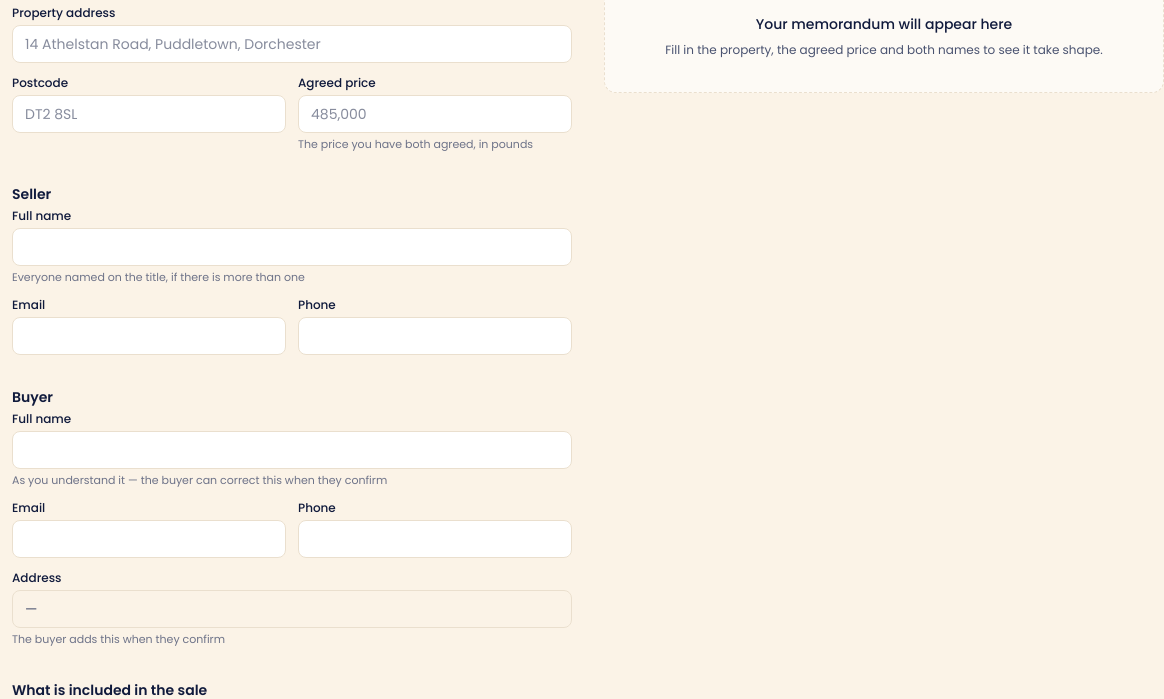
Scenario: acknowledging as the seller › shows the declaration in the signer's own words
Type "14 Athelstan Road, Puddletown" into the field labelled "Property address".
click(292, 44); type("14 Athelstan Road, Puddletown")  # box [12, 25, 572, 63]
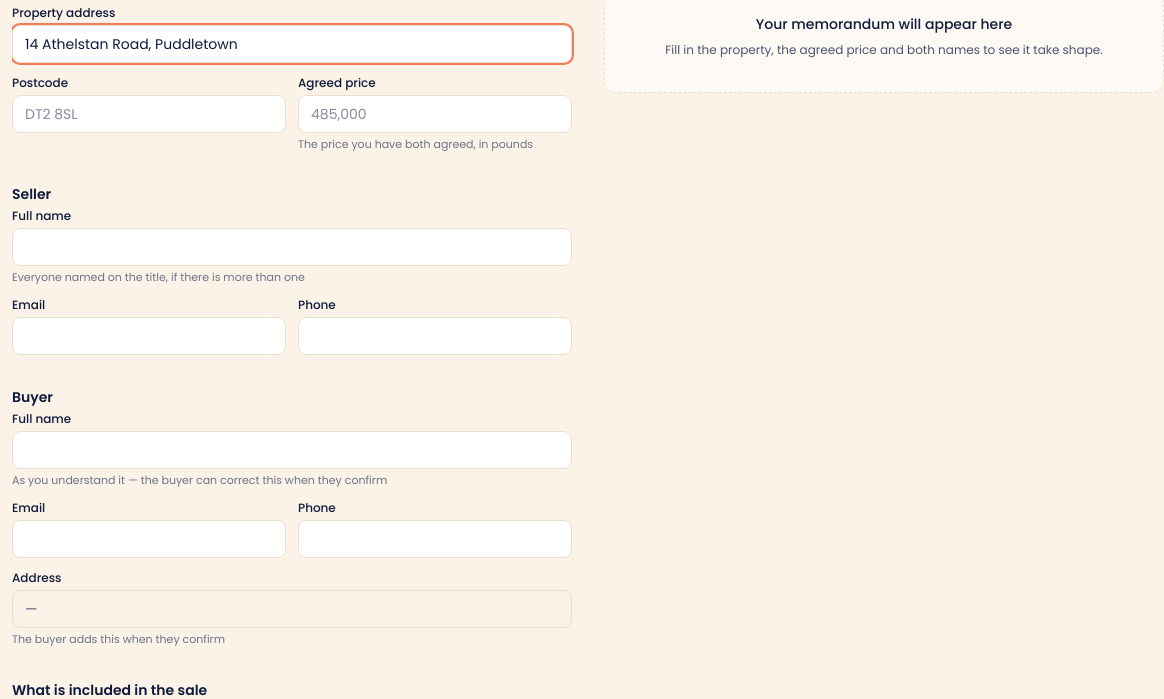
Type "485000" into the field labelled "Agreed price".
click(435, 114); type("485000")  # box [298, 95, 572, 133]
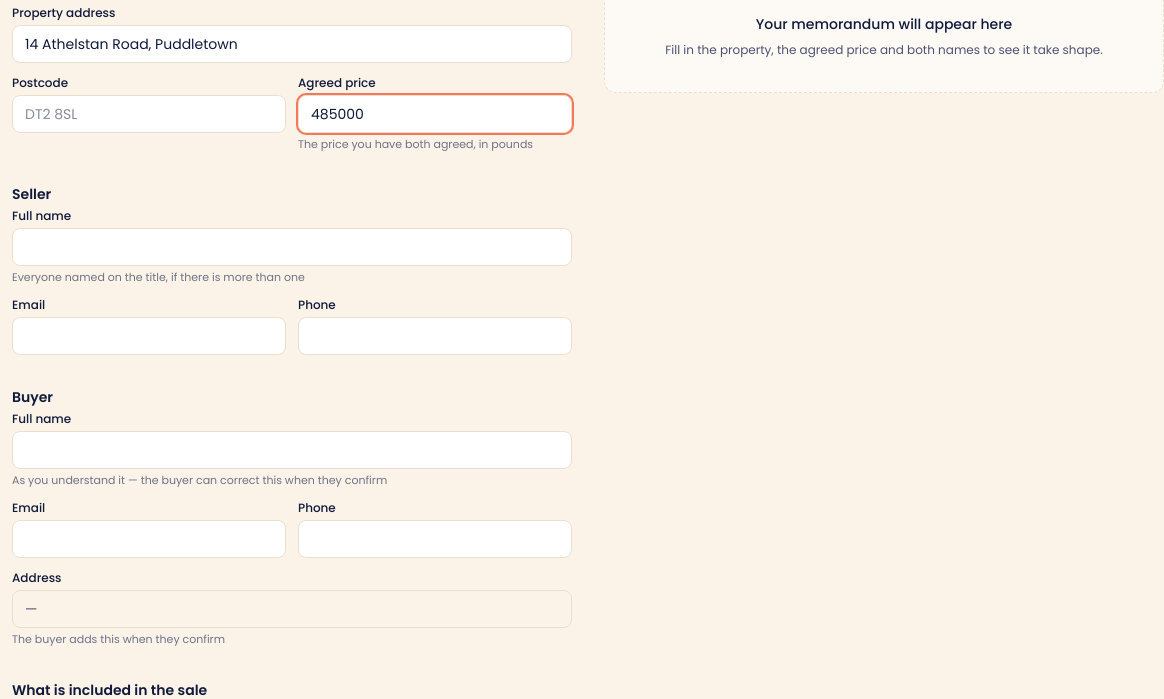
Type "William Boltwood" into the 1st field labelled "Full name".
click(292, 247); type("William Boltwood")  # box [12, 228, 572, 266]
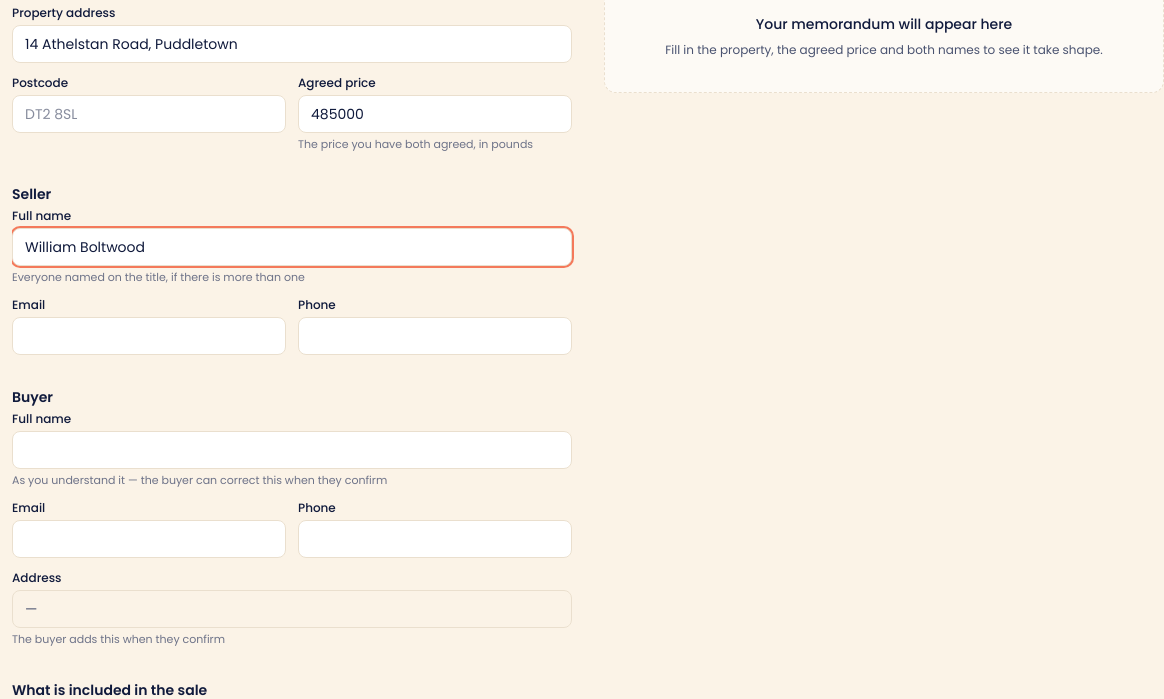
Type "James Law" into the 2nd field labelled "Full name".
click(292, 450); type("James Law")  # box [12, 431, 572, 469]
(page scrolled)
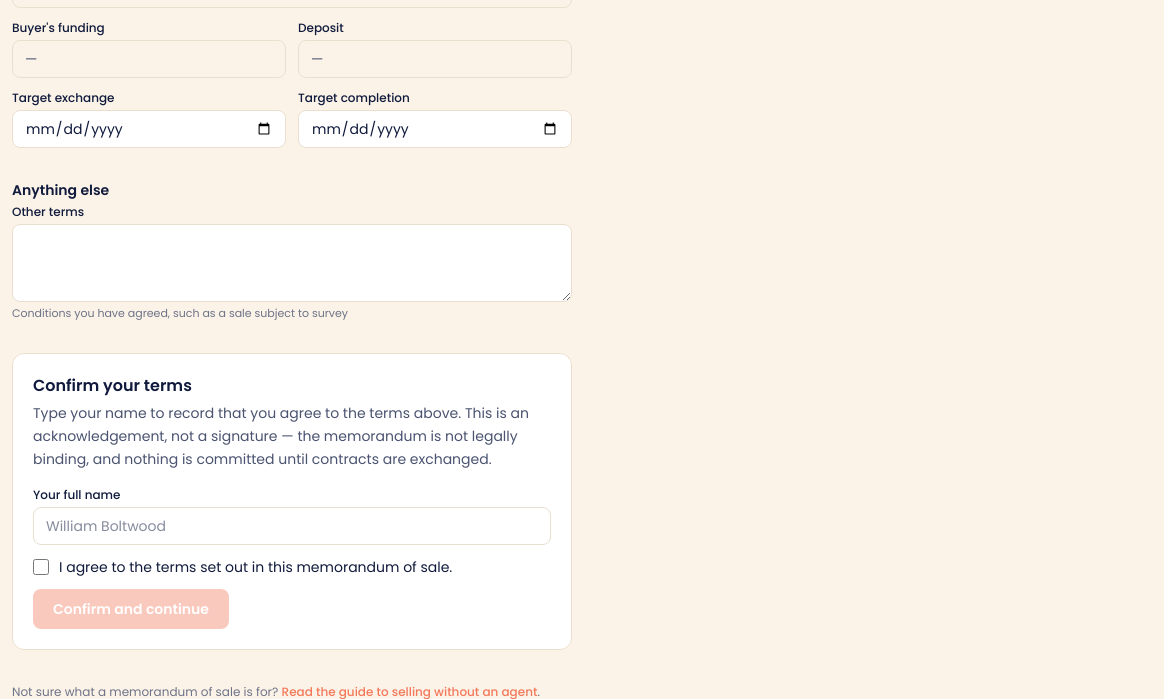
Type "Will Boltwood" into the field labelled "Your full name".
click(292, 526); type("Will Boltwood")  # box [33, 506, 551, 544]
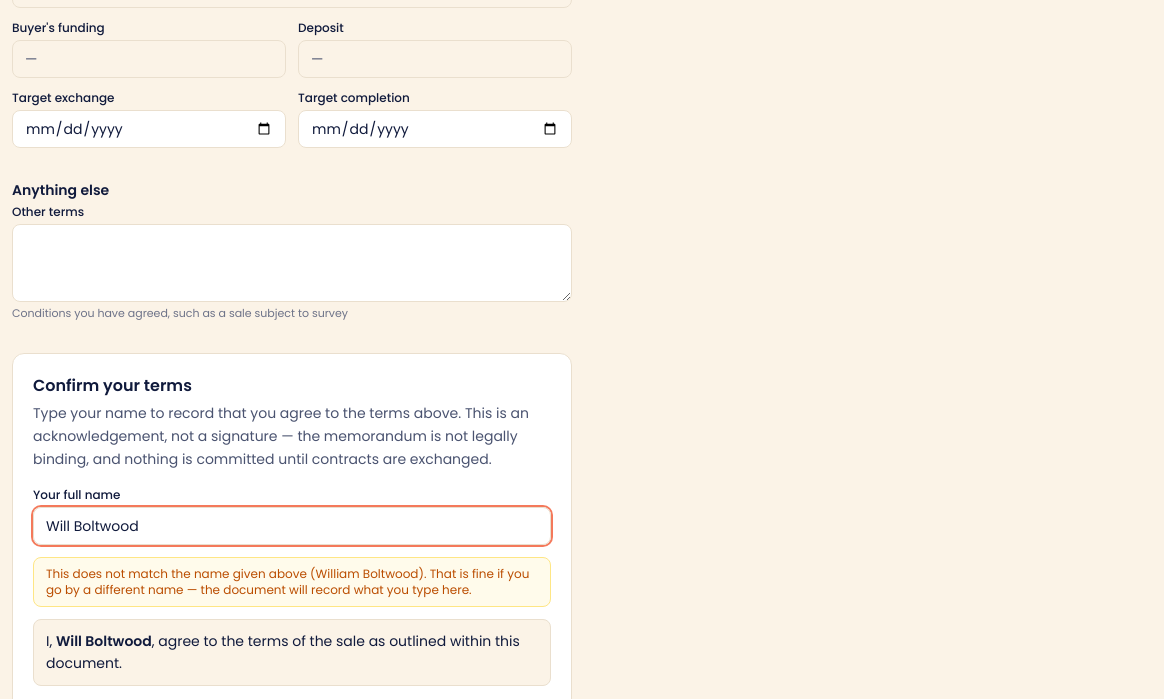
Expected: the text "agree to the terms of the sale as outlined within this document" is shown, [46, 630, 520, 673]
